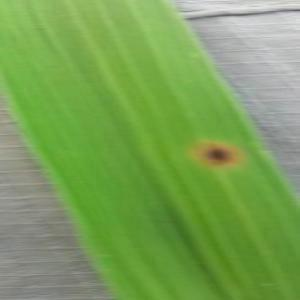0 BrownSpot: (183, 131, 245, 176)
